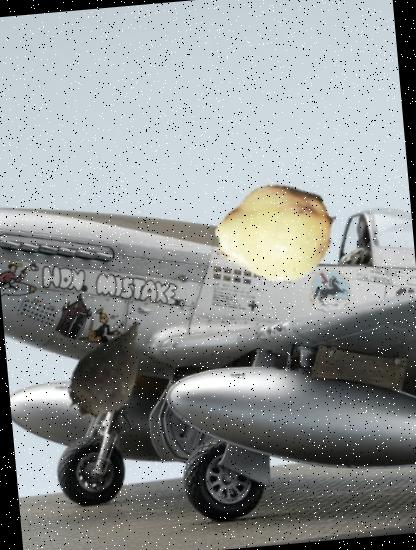Beetroot: (47, 307, 173, 433)
Quince: (210, 168, 342, 300)
